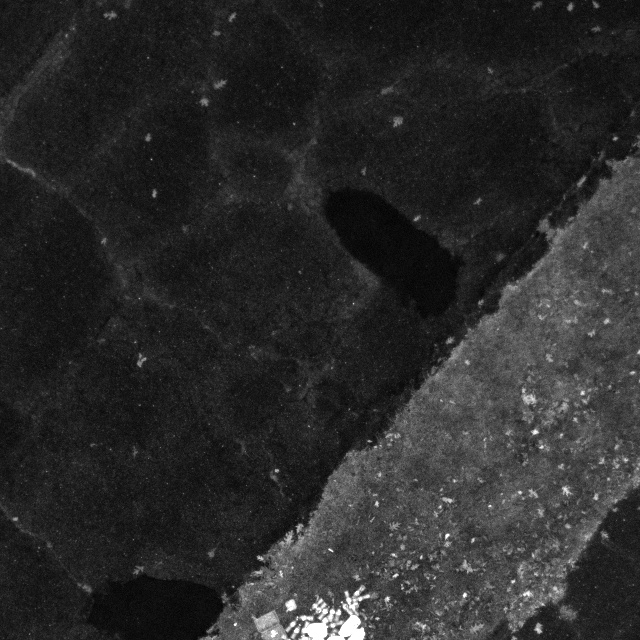bottle: (350, 584, 366, 600), (344, 589, 352, 606)
